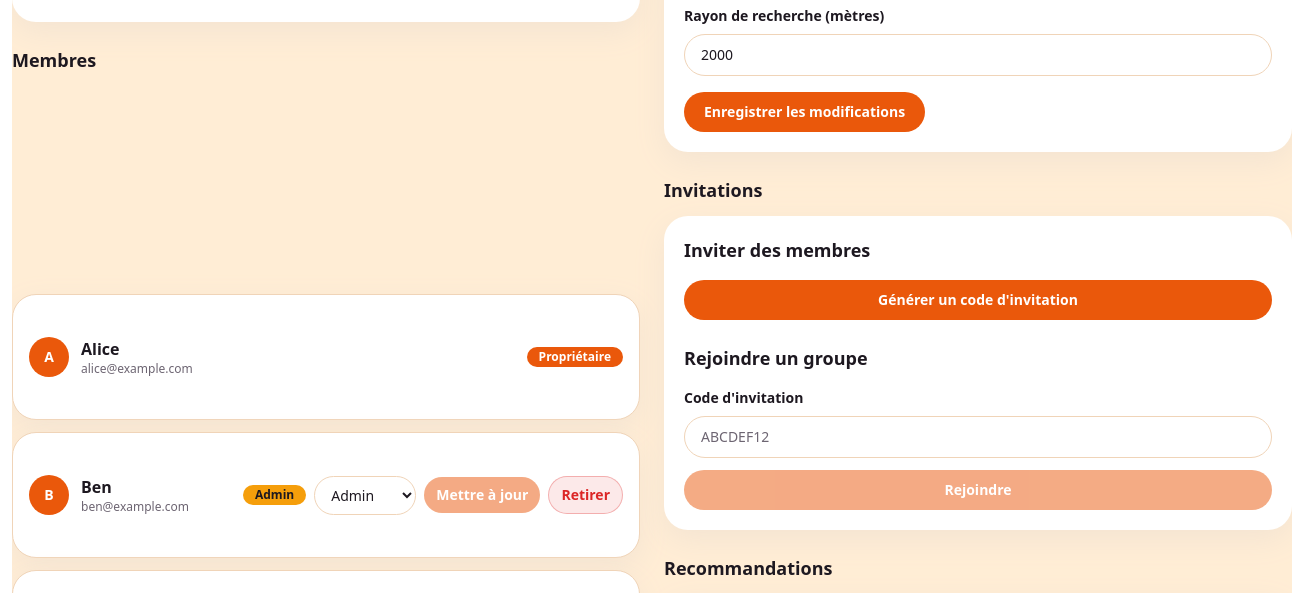
Test case: GroupDetailPage › shows create invite error for validation (400)
(page scrolled)
Expected: the heading "Invitations" is shown, top-left (664, 178), bottom-right (762, 202)
What coordinates should you click on to do the following:
click the button "Générer un code d'invitation"
I would click on:
 (978, 300)
Its box is top-left (684, 280), bottom-right (1272, 320).
(page scrolled)
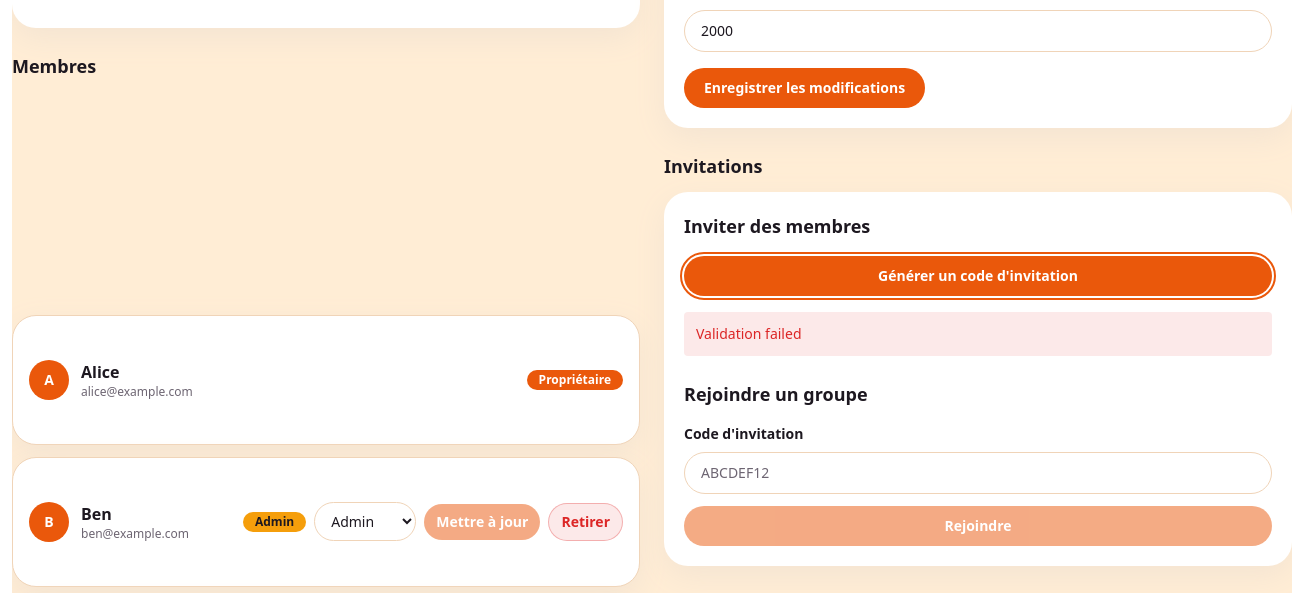
Now the message reads "Validation failed", box top-left (696, 324), bottom-right (802, 343)
